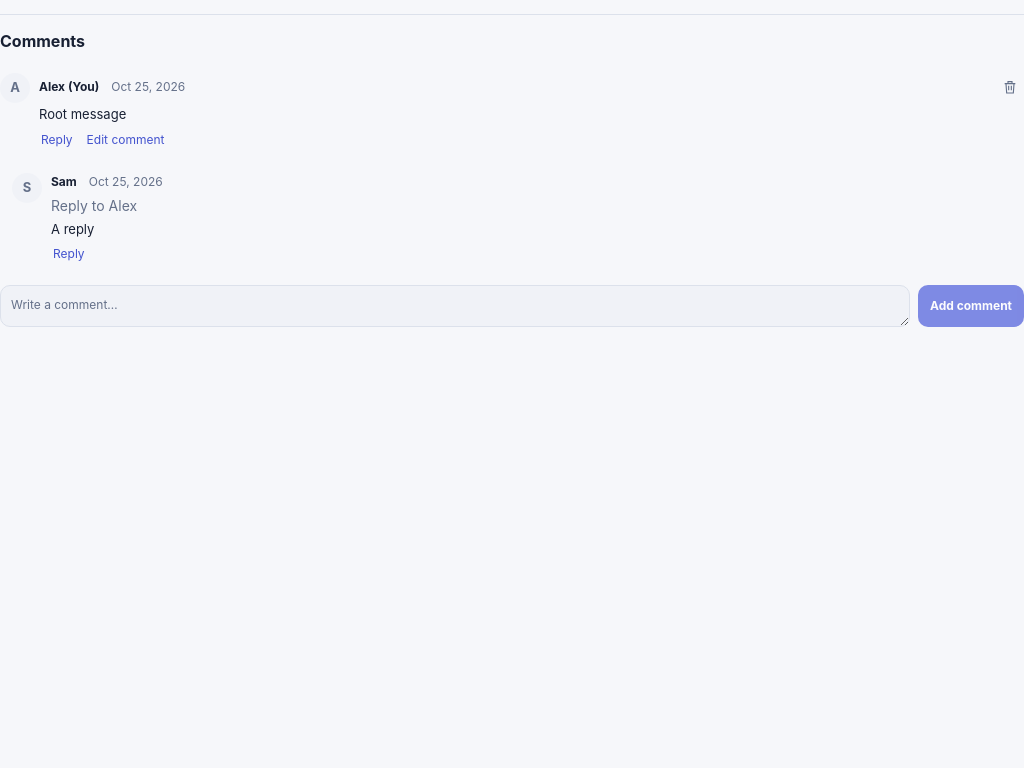
Test: confirms deletion and preserves replies under a tombstone without exposing erased text
Click the button named "Delete comment" at (1010, 87), box [996,73,1023,101]
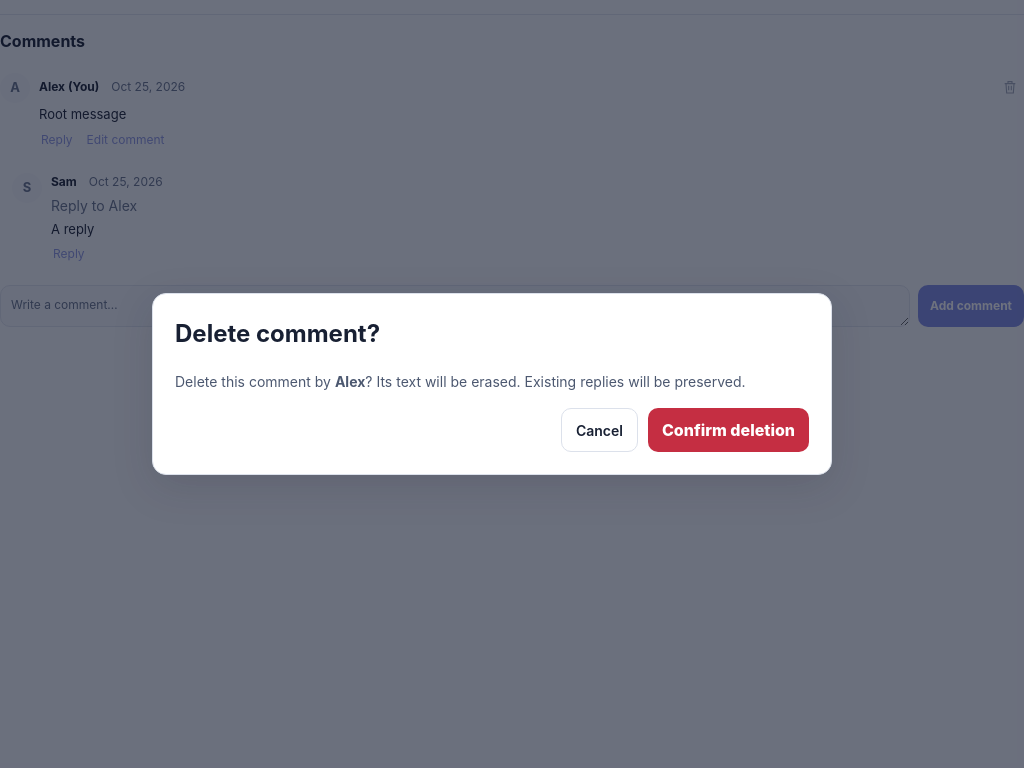
Click the button "Confirm deletion" at (728, 430), box [648,408,809,452]
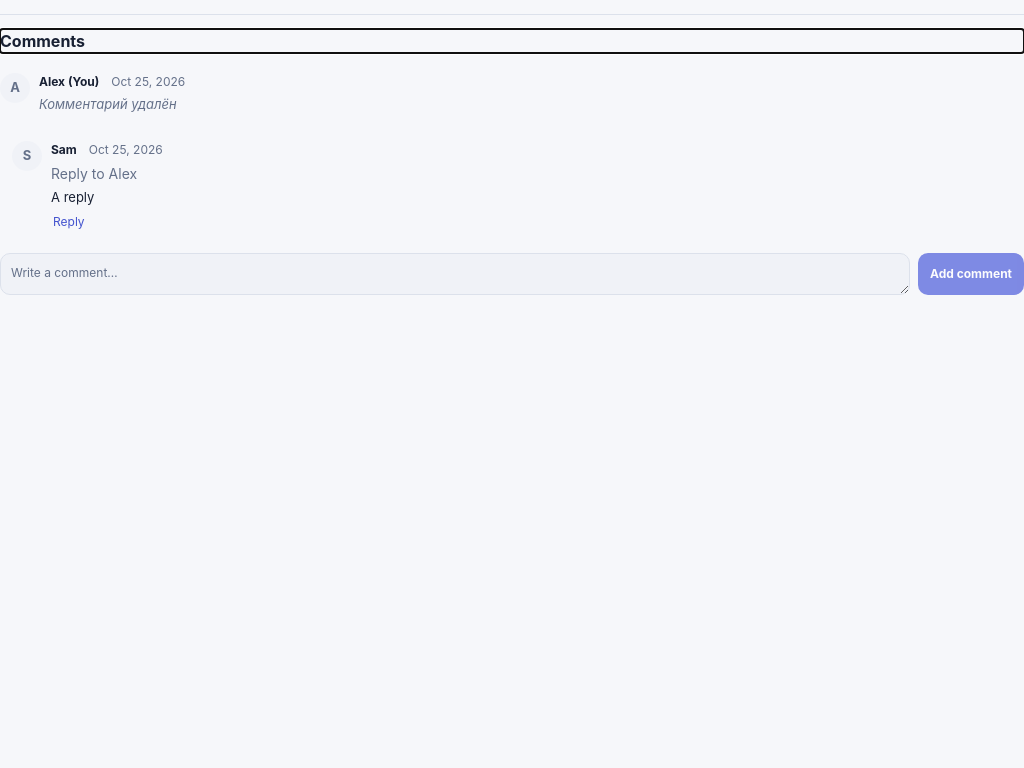
Check: the text "Комментарий удалён" is shown, box [39,96,176,112]
Check: the text "Root message" is gone
Check: the button "Edit comment" is gone
